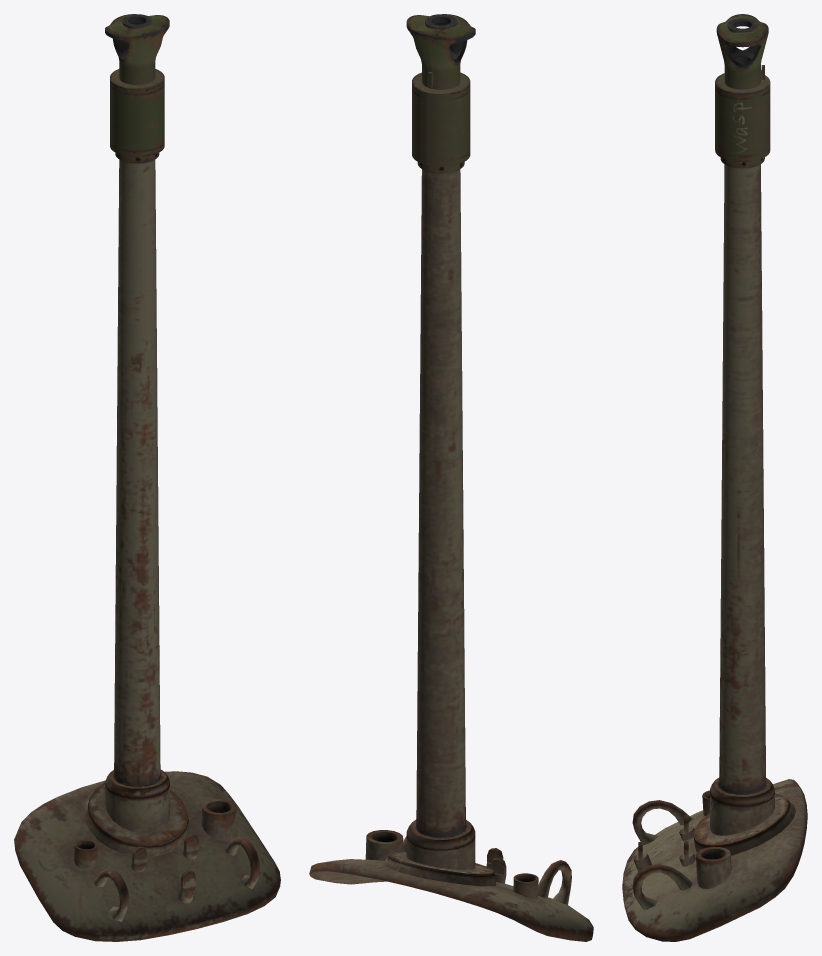
File: Gun_09.glb
3 views of the same model, side by side, from view 1: azimuth 30°, elevation 25°; view 2: azimuth 150°, elevation 25°; view 3: azimuth 270°, elevation 25° (orthographic). The views are drawn at different scales.
Visible parts, largest first — view 1: set_0_group_0; view 2: set_0_group_0; view 3: set_0_group_0.
Boxes of the visible parts, left/top/right/bottom form: set_0_group_0: left=14, top=14, right=280, bottom=941; set_0_group_0: left=309, top=14, right=593, bottom=941; set_0_group_0: left=622, top=14, right=807, bottom=941.
Bounding box in the file's own units: 1.03 × 3.87 × 0.7492.
1 material, 1 textured.
